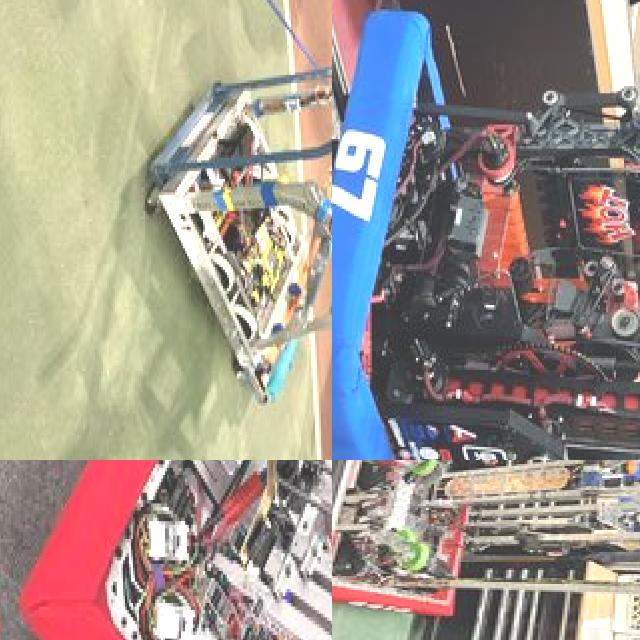FRC-Robots: (332, 0, 640, 460), (126, 0, 332, 458), (0, 460, 332, 640), (332, 460, 640, 640)
